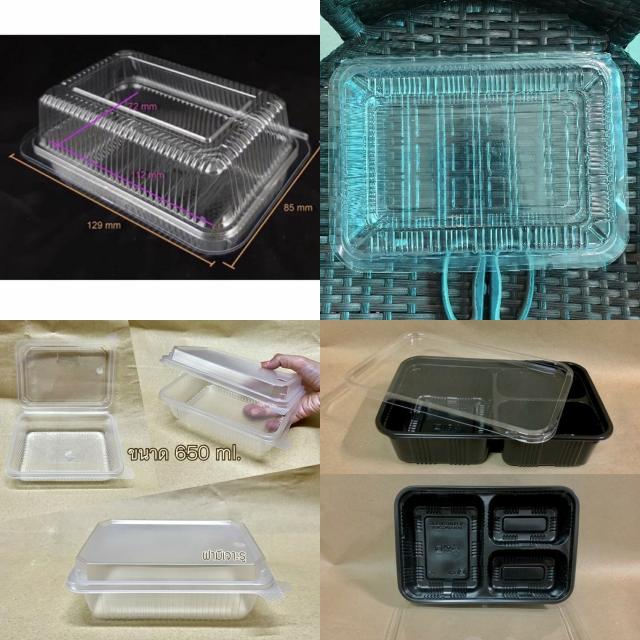Single-Use-Plastic: (329, 51, 629, 272), (10, 50, 312, 262), (378, 355, 612, 466), (345, 331, 572, 443), (395, 486, 579, 604), (66, 520, 284, 618), (5, 334, 134, 481), (159, 346, 305, 452)
